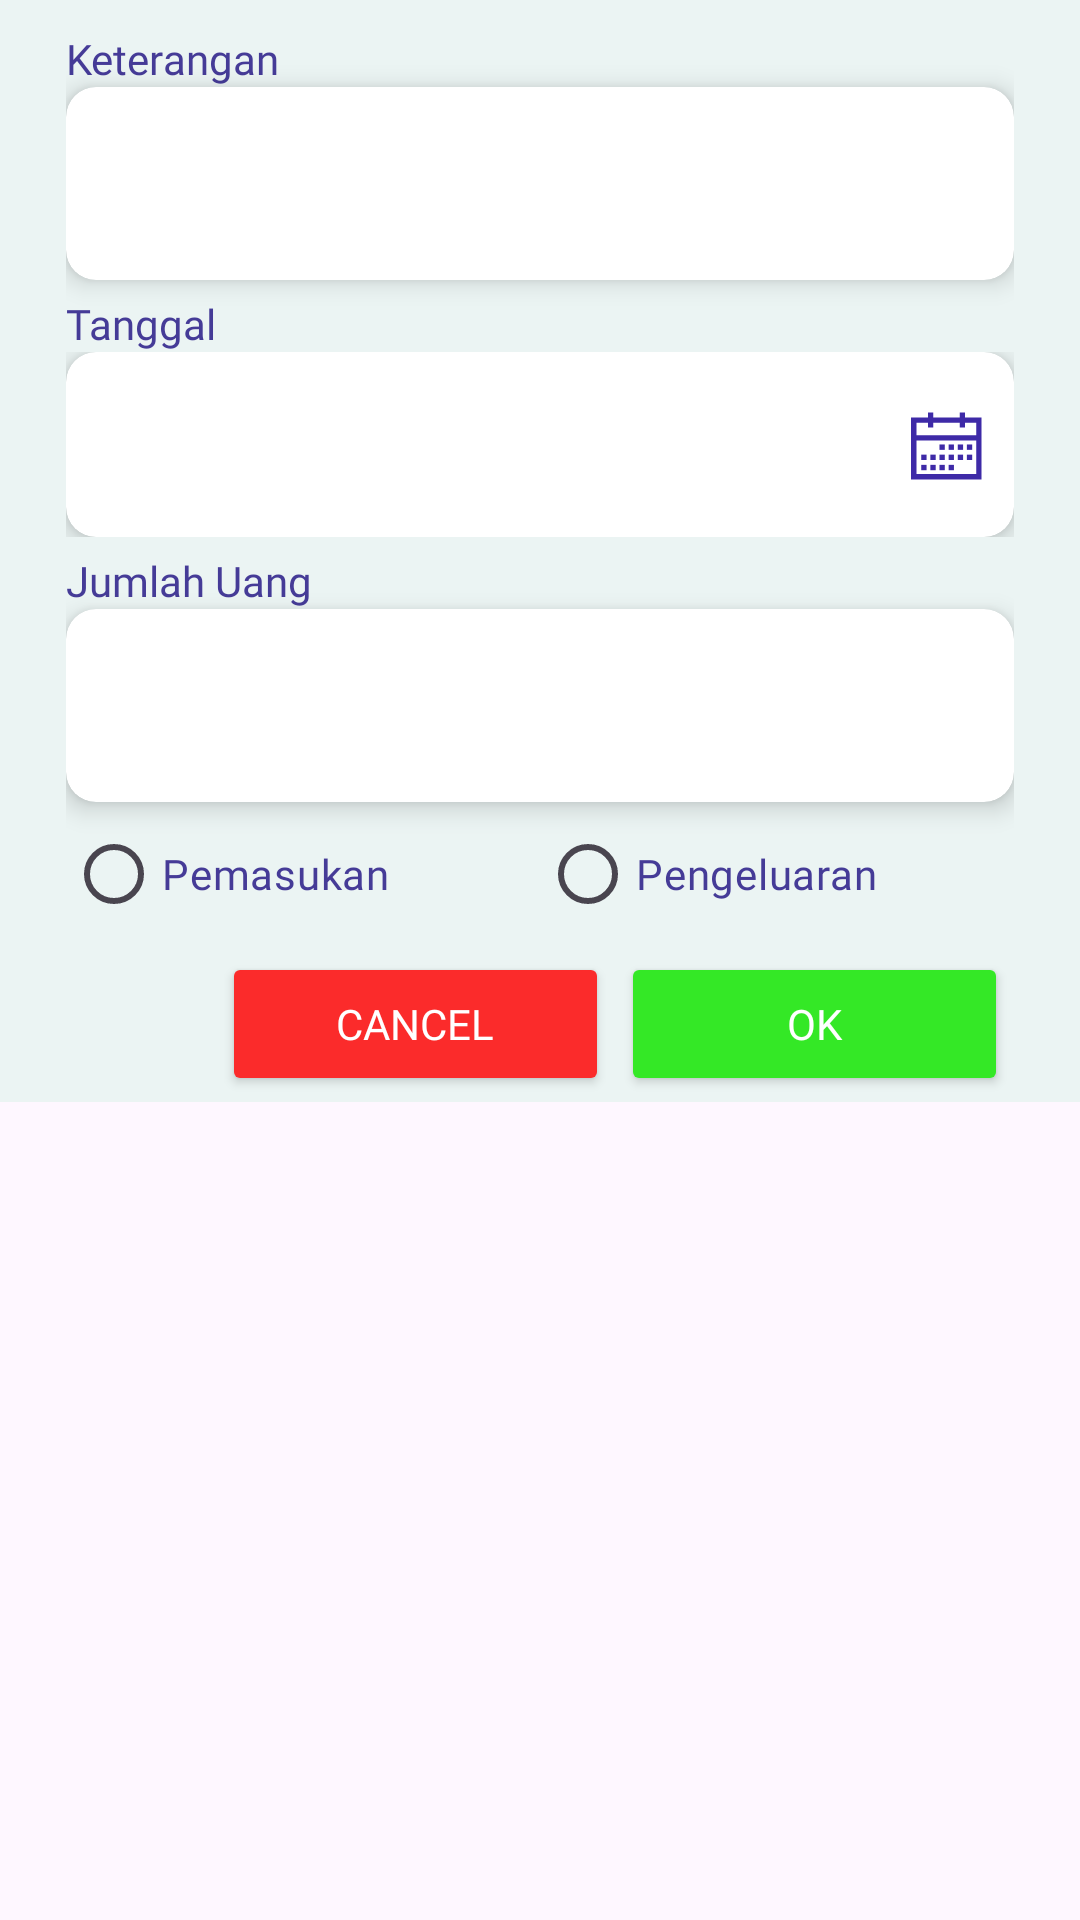

Icon bounding boxes for this 1080×1920 phone screenshot, format rect(x1, y1, x2, y2):
Calendar Icon: rect(911, 412, 982, 480)
